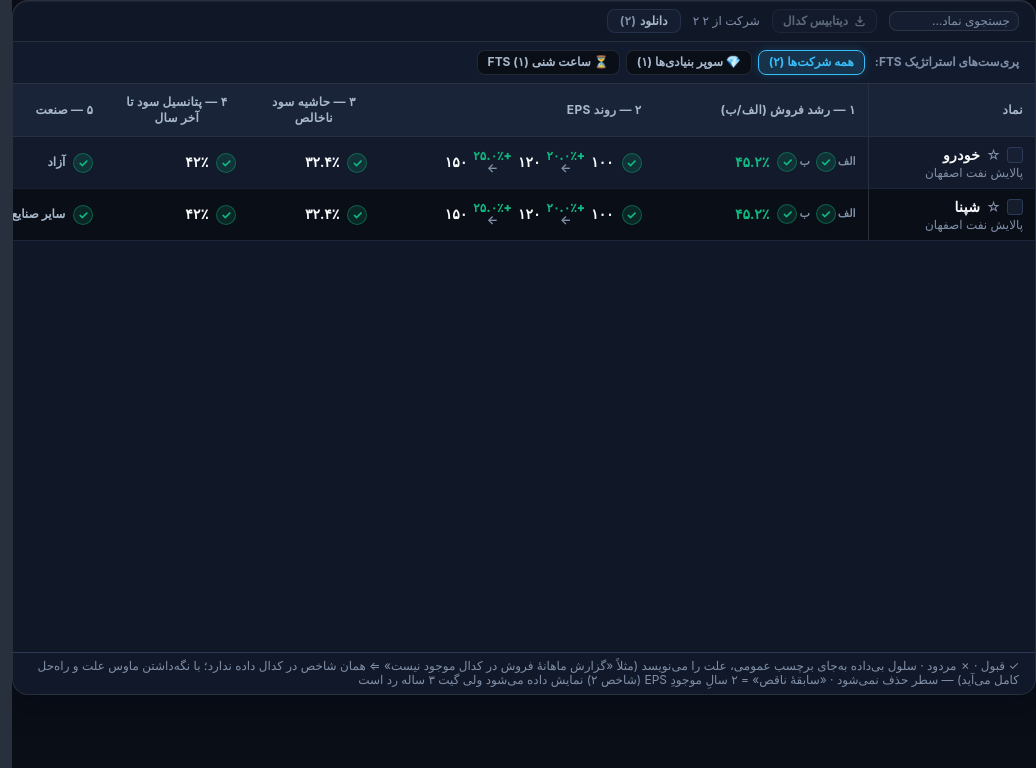
Test: پری‌ست «سوپر بنیادی» = رأیِ موتور › شمارش و فیلتر از verdict === STRONG می‌آید، نه از score/pricing_mode
What coordinates should you click on to do the following:
click the button "💎 سوپر بنیادی‌ها (۱)"
I would click on:
 (689, 63)
Its box is [626,50,752,75].
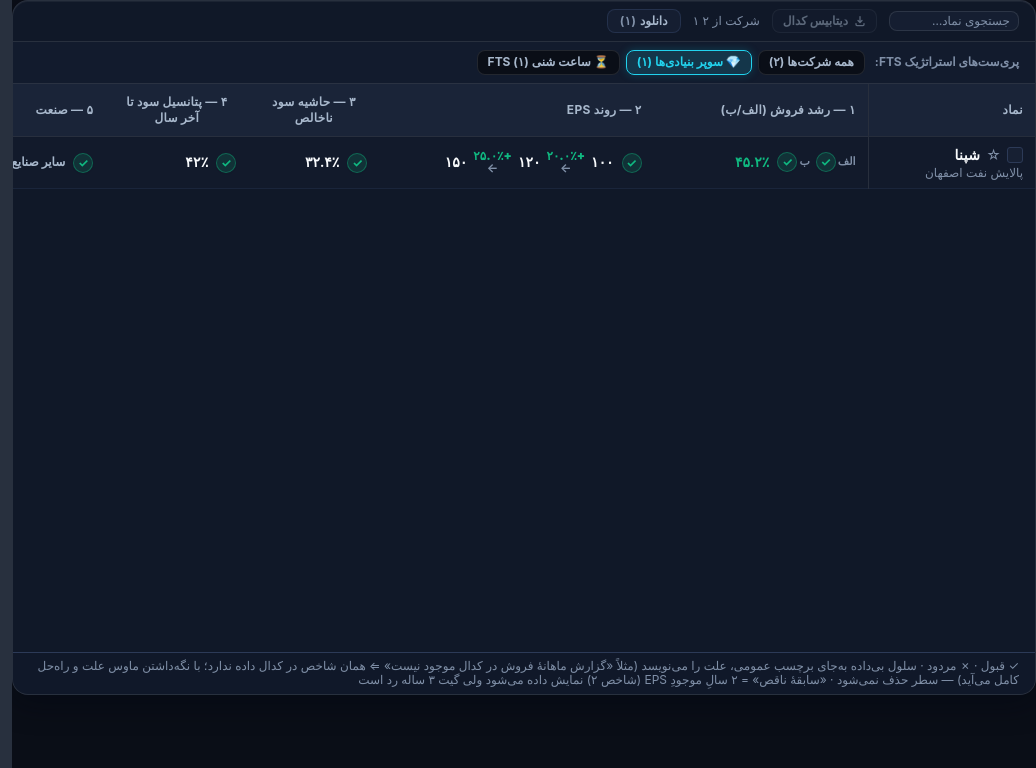
Expected: the text "شپنا" is shown, [954,145,980,165]
Expected: the text "خودرو" is gone
